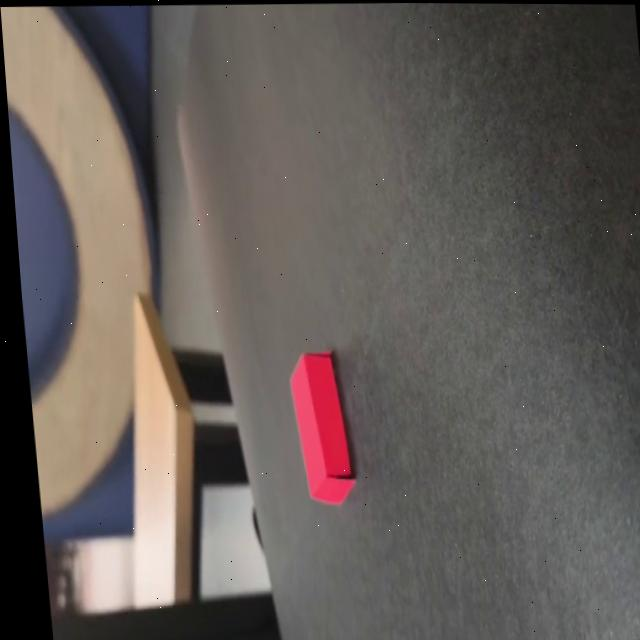red block: (286, 347, 358, 504)
